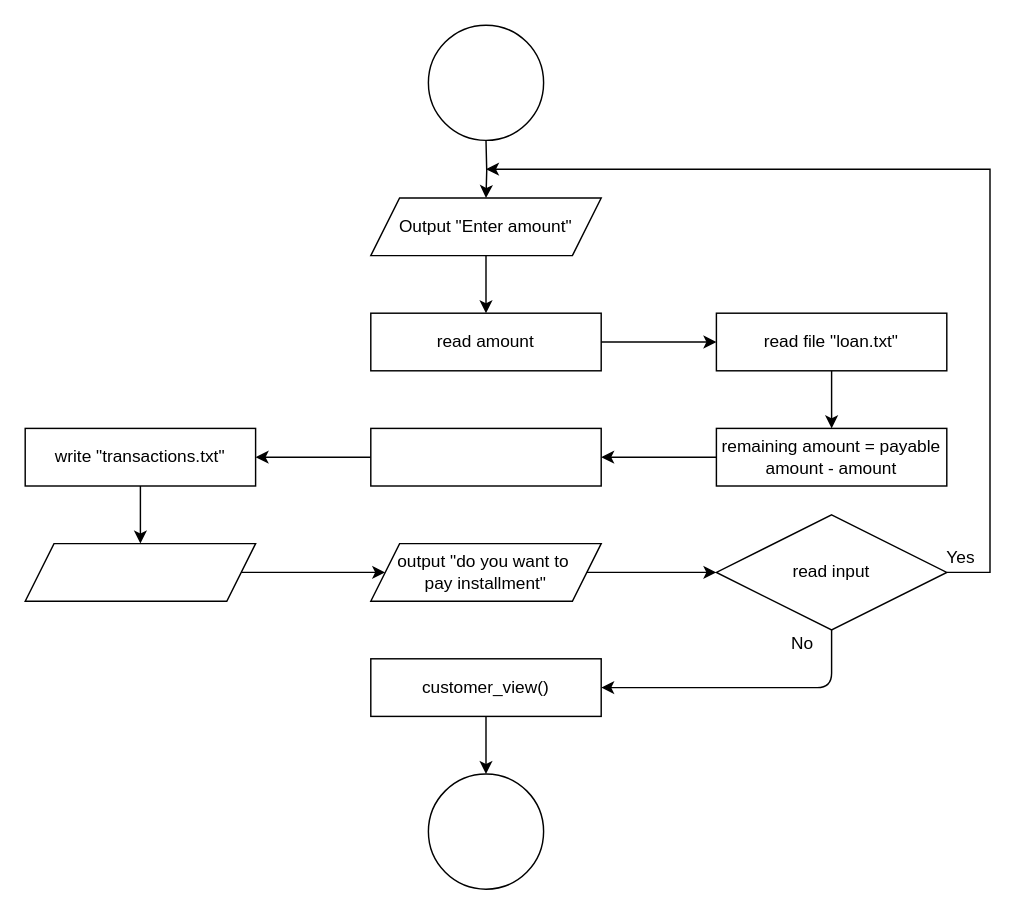
This 1027x914 diagram has some shape labels left out. The shapes that lost their labels are listed below. From the top down, each one's centre as x and y in pixels, then its label:
(485,82): pay loan installment
(485,456): write file "loan.txt"
(140,571): output "installment paid"
(485,831): cusomter view
